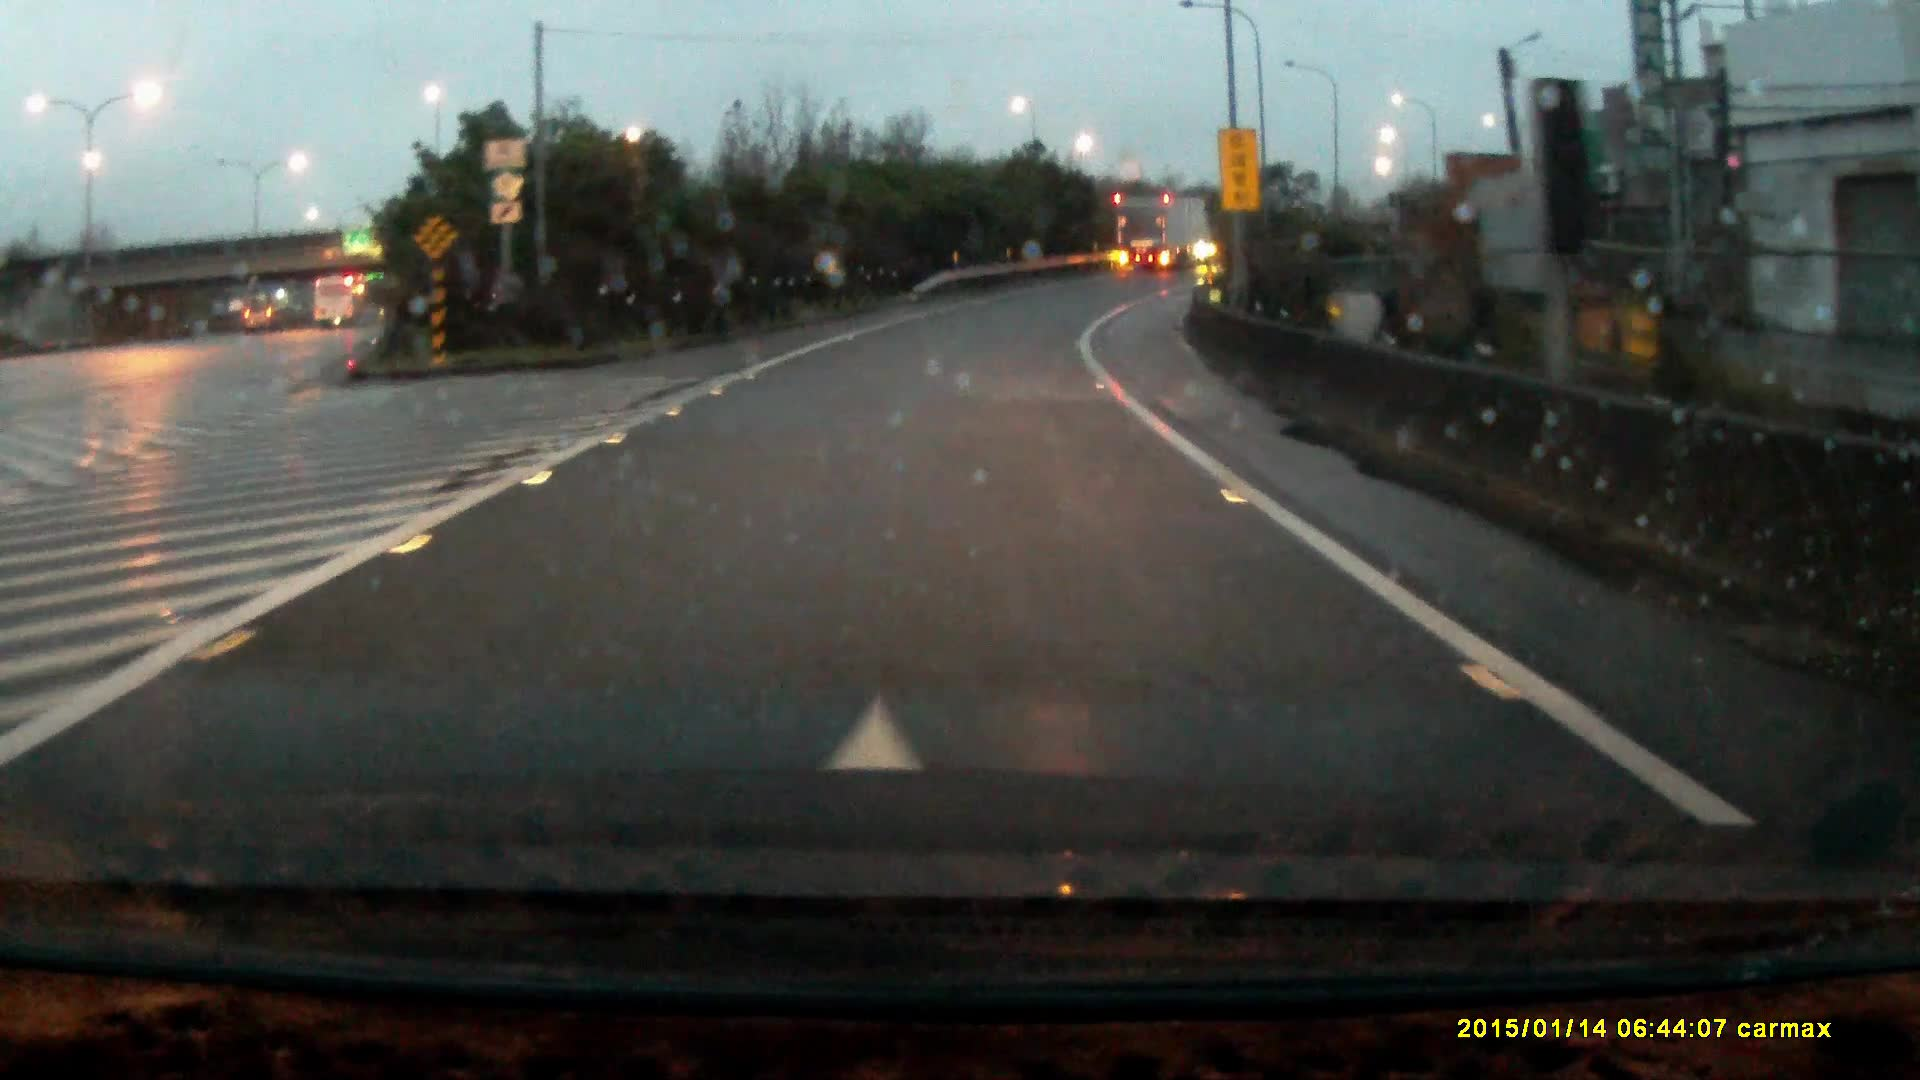vehicle: (1116, 196, 1215, 276), (245, 306, 280, 335)
